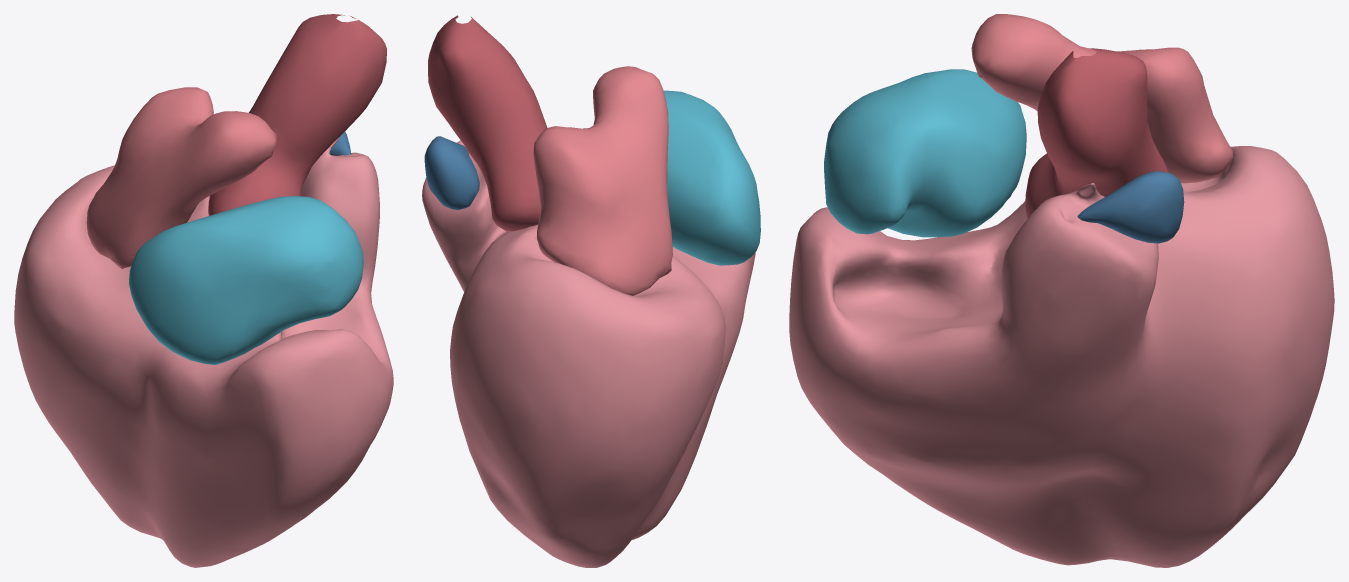
The model's file is frame_16.glb.
3 views of the same model, side by side, from view 1: azimuth 30°, elevation 25°; view 2: azimuth 150°, elevation 25°; view 3: azimuth 270°, elevation 25° (orthographic). The views are drawn at different scales.
Visible parts, largest first — view 1: Renderer Node; view 2: Renderer Node; view 3: Renderer Node.
Boxes of the visible parts, bbox=[...] form: Renderer Node: bbox=[14, 14, 393, 567]; Renderer Node: bbox=[422, 15, 760, 567]; Renderer Node: bbox=[789, 14, 1334, 567].
Bounding box in the file's own units: 107 × 163 × 133.
